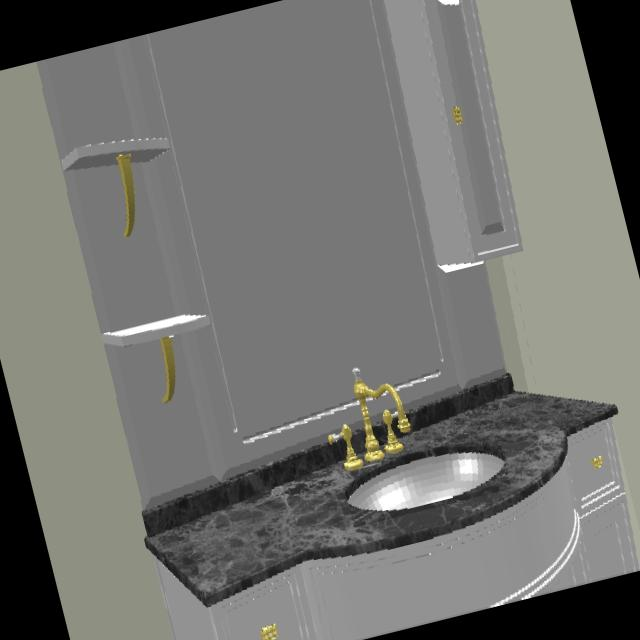cabinet: (210, 419, 640, 640)
washbasin: (348, 451, 505, 515)
